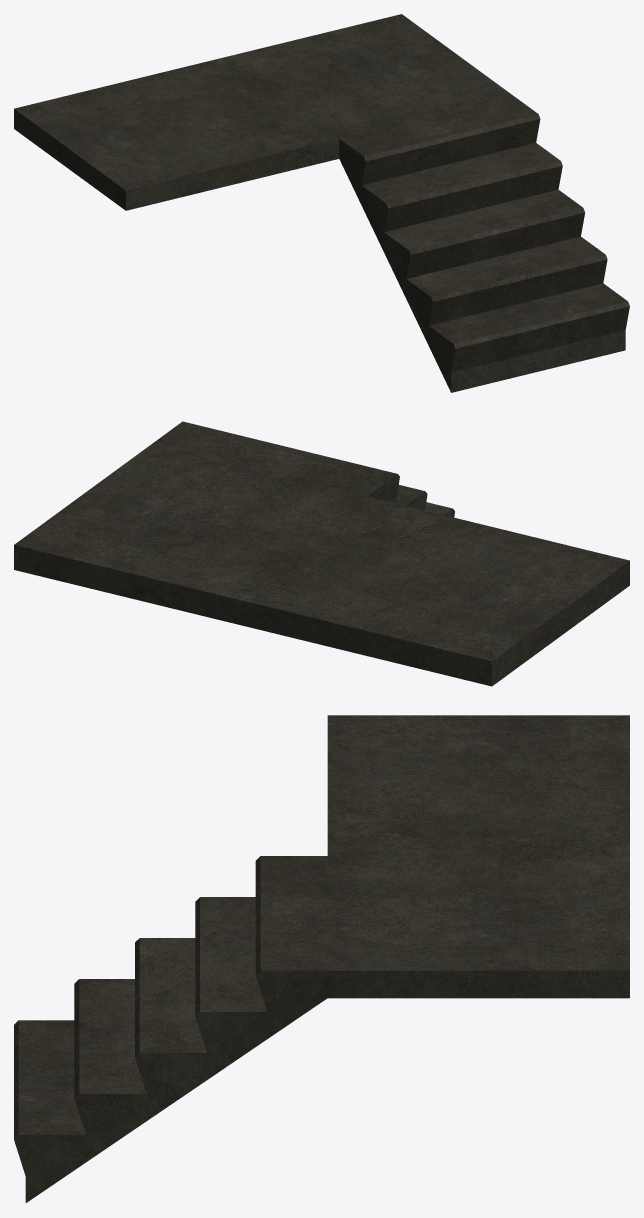
File: stairs_1.dae
3 views of the same model, one above another, from view 1: azimuth 30°, elevation 25°; view 2: azimuth 150°, elevation 25°; view 3: azimuth 270°, elevation 25° (orthographic). The views are drawn at different scales.
Visible parts, largest first — view 1: stairs_1; view 2: stairs_1; view 3: stairs_1.
Boxes of the visible parts, x1,y1,x2,y2 form: stairs_1: (14,14,629,392); stairs_1: (14,421,629,686); stairs_1: (14,715,629,1202).
Bounding box in the file's own units: 4 × 4.08 × 1.7.
1 material, 1 textured.
